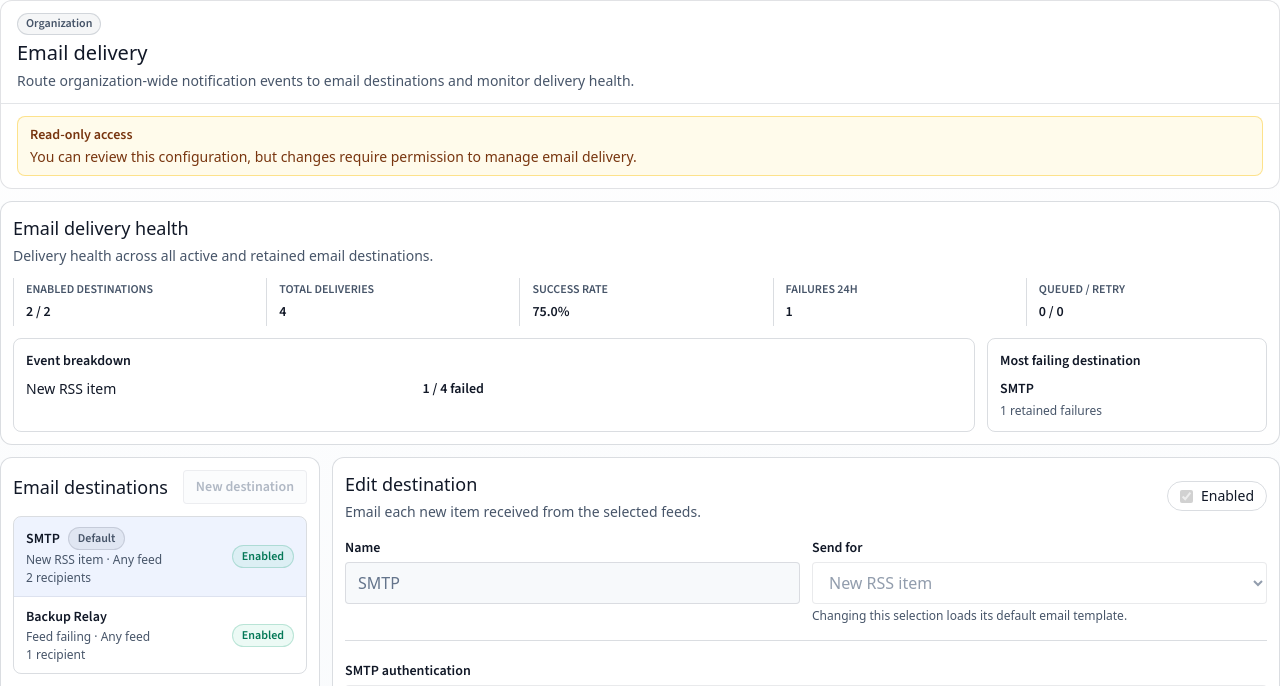
Test: IntegrationsSettingsPage DOM workflows › keeps email delivery inspectable but disables writes without write:integrations
Expected: the button "New destination" is disabled, [183, 470, 307, 504]
Step 1. Click the button "Backup Relay Feed failing · Any feed 1 recipient Enabled" → x=66, y=617, box [14, 597, 306, 673]
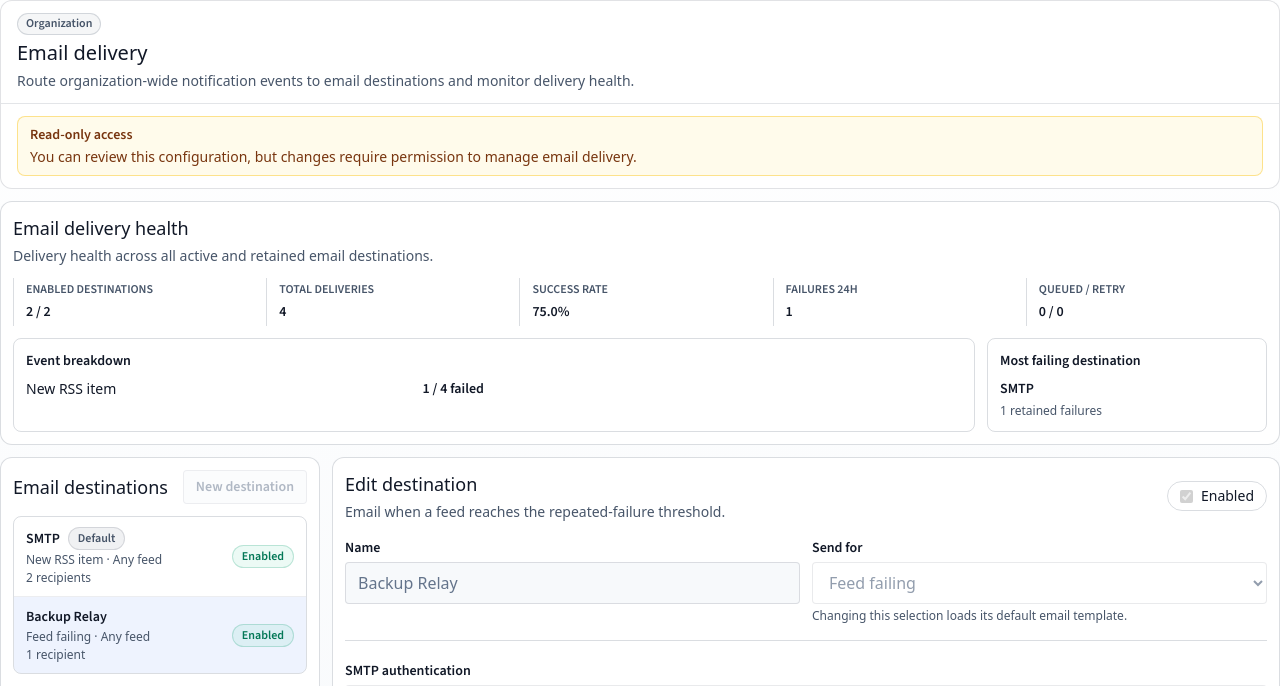
Expected: the field with id "smtp-hook-name" holds "Backup Relay", [345, 562, 800, 604]
